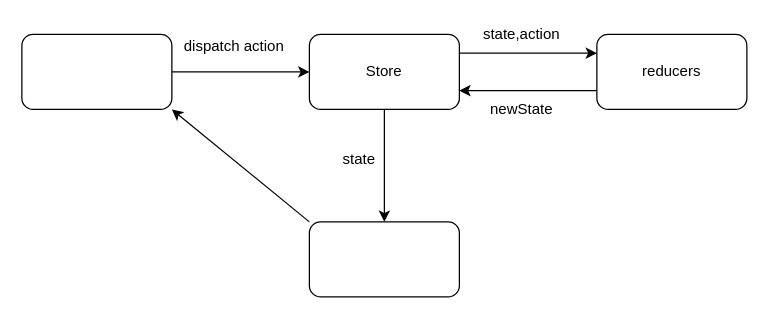
Some shapes in this 769 by 319 pixel diagram are drawn without their labels. The shapes that lost their labels are listed below. From the top down, each one's centre as x and y in pixels, then its label:
At (x=96, y=71): "Action creators".
At (x=383, y=259): "react component".
